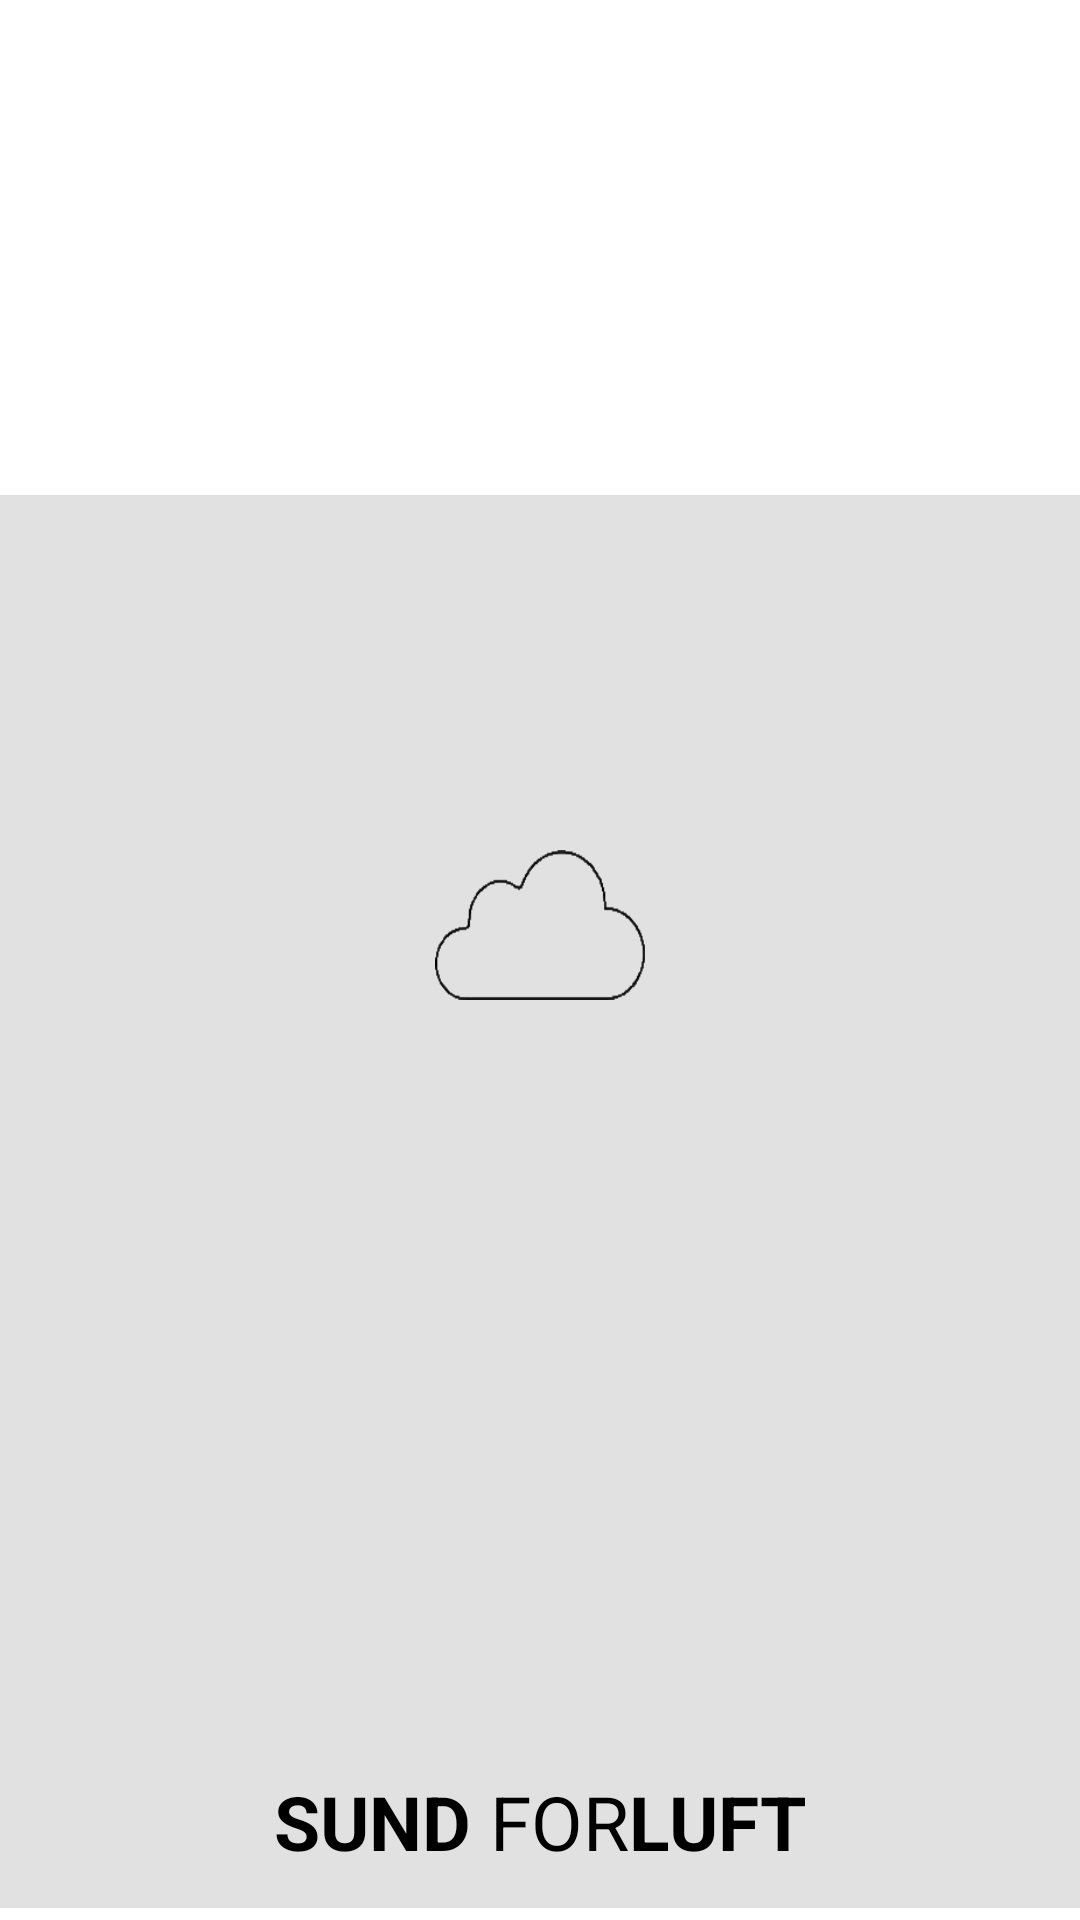

Icons on this 1080 × 1920 Android screen, each with the point to tap as [x,y]:
sky: [540,925]
